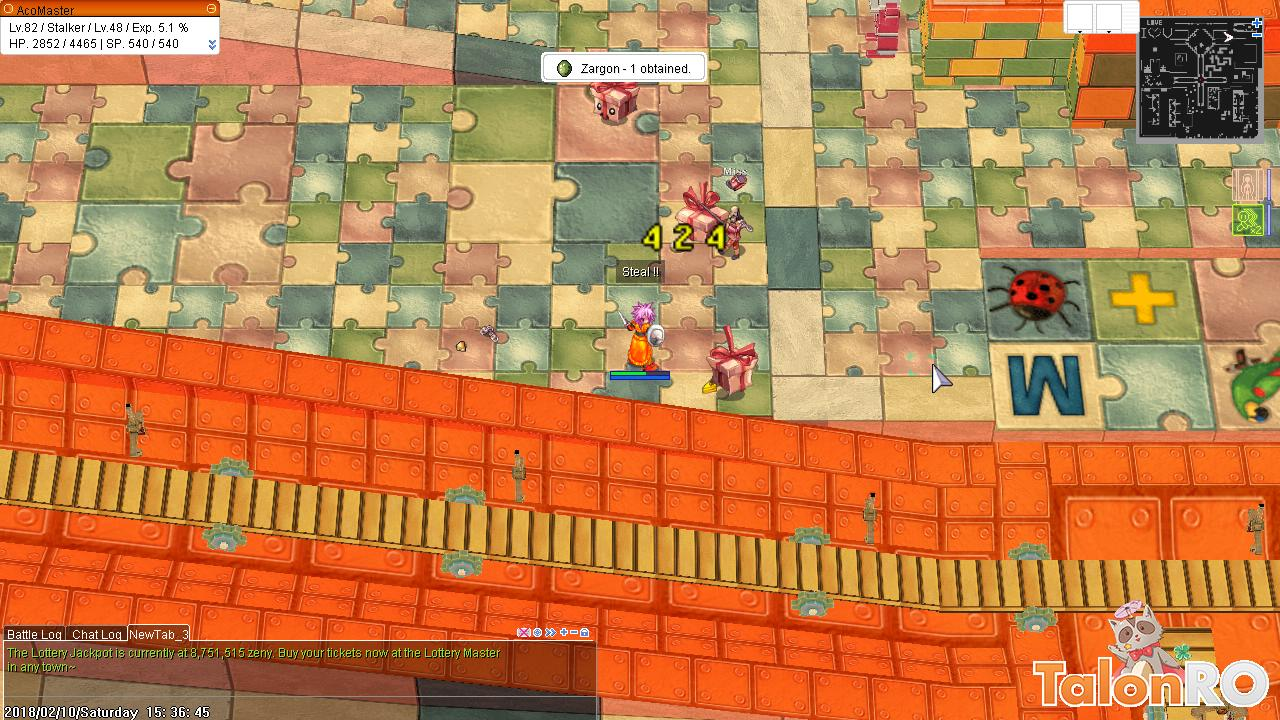loot: (700, 377, 717, 393)
mob: (715, 172, 755, 269)
myst_case: (707, 322, 761, 403), (675, 180, 725, 239), (589, 85, 639, 126)
